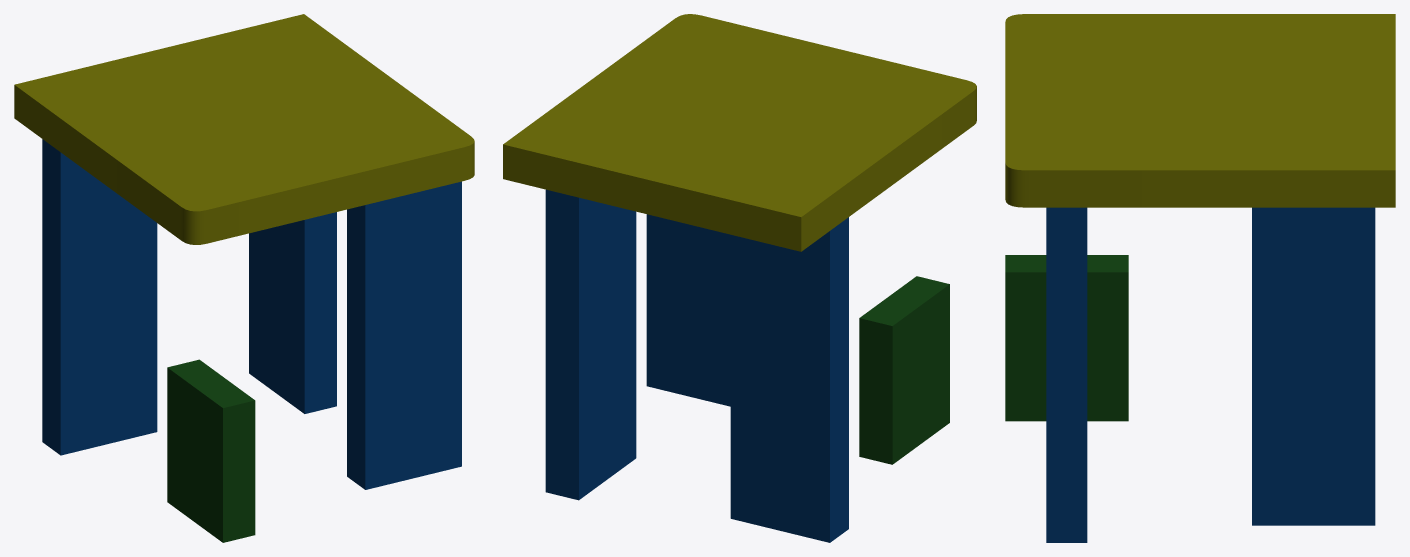
File: Pillar_01_I_L.fbx
3 renders of one model, left to right at view 1: azimuth 30°, elevation 25°; view 2: azimuth 150°, elevation 25°; view 3: azimuth 270°, elevation 25°, orthographic. The views are drawn at different scales.
Visible parts, largest first — view 1: 1, 4, 3, 2; view 2: 4, 2, 3, 1; view 3: 2, 1, 3, 4.
Boxes of the visible parts, left/top/right/bottom form: 1: left=248, top=78, right=474, bottom=489; 4: left=14, top=49, right=246, bottom=455; 3: left=102, top=114, right=335, bottom=542; 2: left=159, top=14, right=391, bottom=413; 4: left=652, top=114, right=891, bottom=542; 2: left=503, top=78, right=742, bottom=500; 3: left=743, top=48, right=976, bottom=464; 1: left=594, top=14, right=833, bottom=406; 2: left=1200, top=92, right=1395, bottom=525; 1: left=1005, top=92, right=1200, bottom=542; 3: left=1005, top=14, right=1200, bottom=421; 4: left=1200, top=14, right=1395, bottom=92.
Size of the model in its own units: 180 by 200 by 190.
